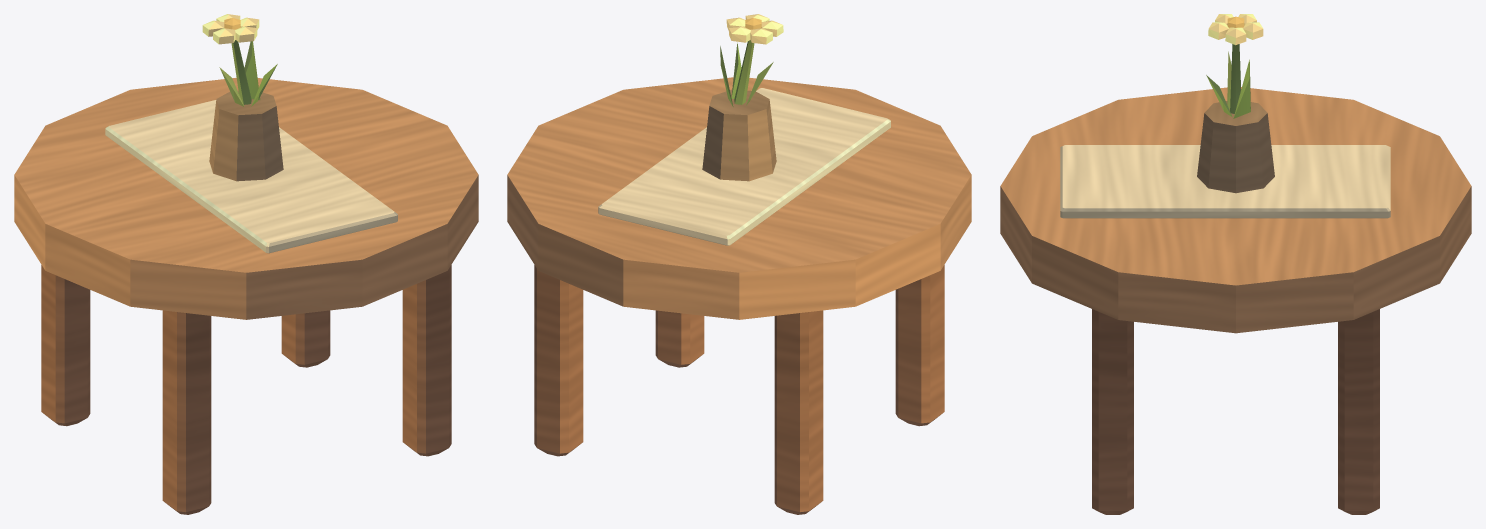
File: furniture_table.glb
The picture shows the model from 3 angles, left to right: view 1: azimuth 30°, elevation 25°; view 2: azimuth 150°, elevation 25°; view 3: azimuth 270°, elevation 25°; orthographic projection.
Parts seen in each view (by area): view 1: Runder Holztisch; view 2: Runder Holztisch; view 3: Runder Holztisch.
Boxes of the visible parts, x1,y1,x2,y2 form: Runder Holztisch: [14, 14, 478, 514]; Runder Holztisch: [507, 14, 971, 514]; Runder Holztisch: [1000, 14, 1471, 514].
Size of the model in its own units: 1.34 by 1.34 by 1.34.
3 materials, 2 textured.
